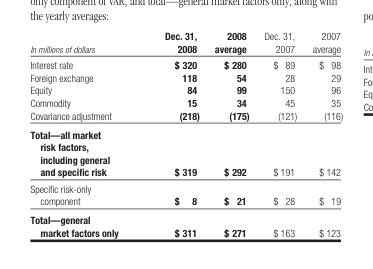table: (29, 29, 342, 238)
table column: (29, 29, 140, 238), (140, 29, 206, 238), (206, 29, 256, 238), (256, 29, 304, 238), (304, 29, 342, 238)
table column header: (29, 29, 342, 56)
table row: (29, 124, 342, 180), (29, 180, 342, 210), (29, 210, 342, 238), (29, 29, 342, 56), (29, 108, 342, 124), (29, 56, 342, 70), (29, 70, 342, 83), (29, 95, 342, 108), (29, 83, 342, 95)
